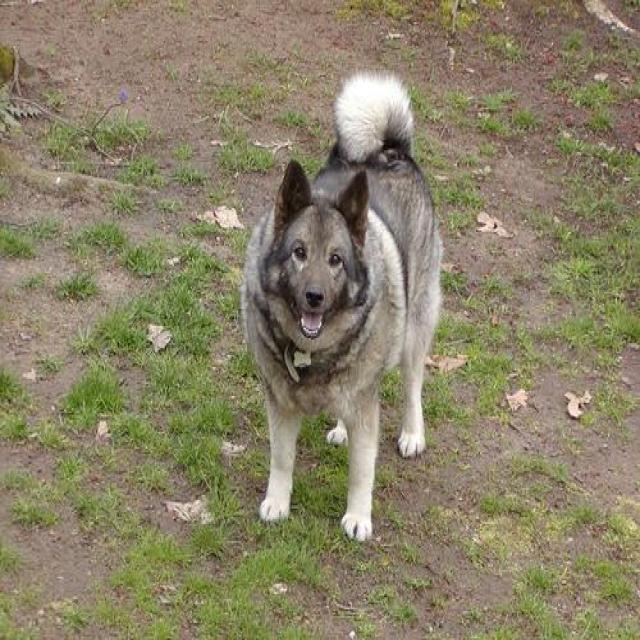adult_dog: (240, 69, 447, 543)
